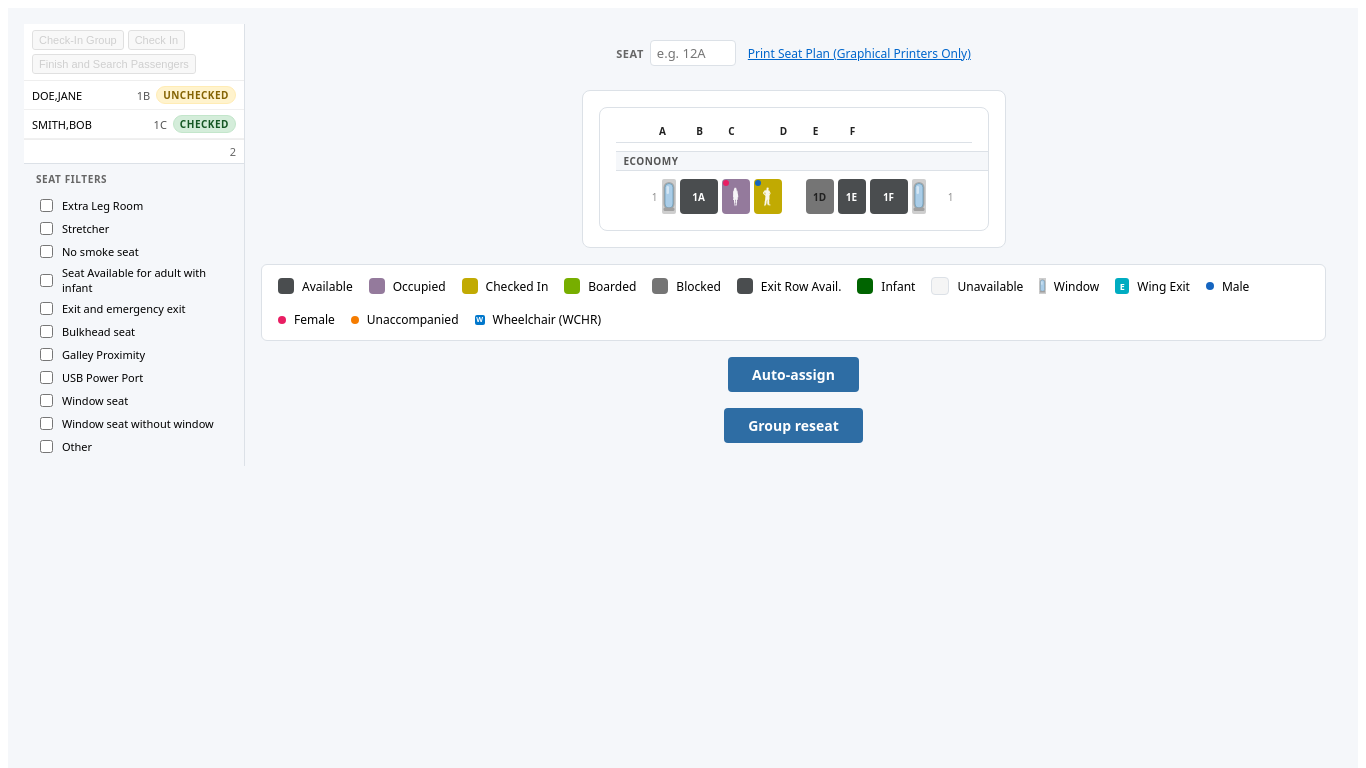
it: SeatPlanTab — reseat flow › clicking Reseat enters reseat mode and shows banner with passenger name
Click the button named "1B".
click(736, 196)  # box [722, 179, 750, 214]
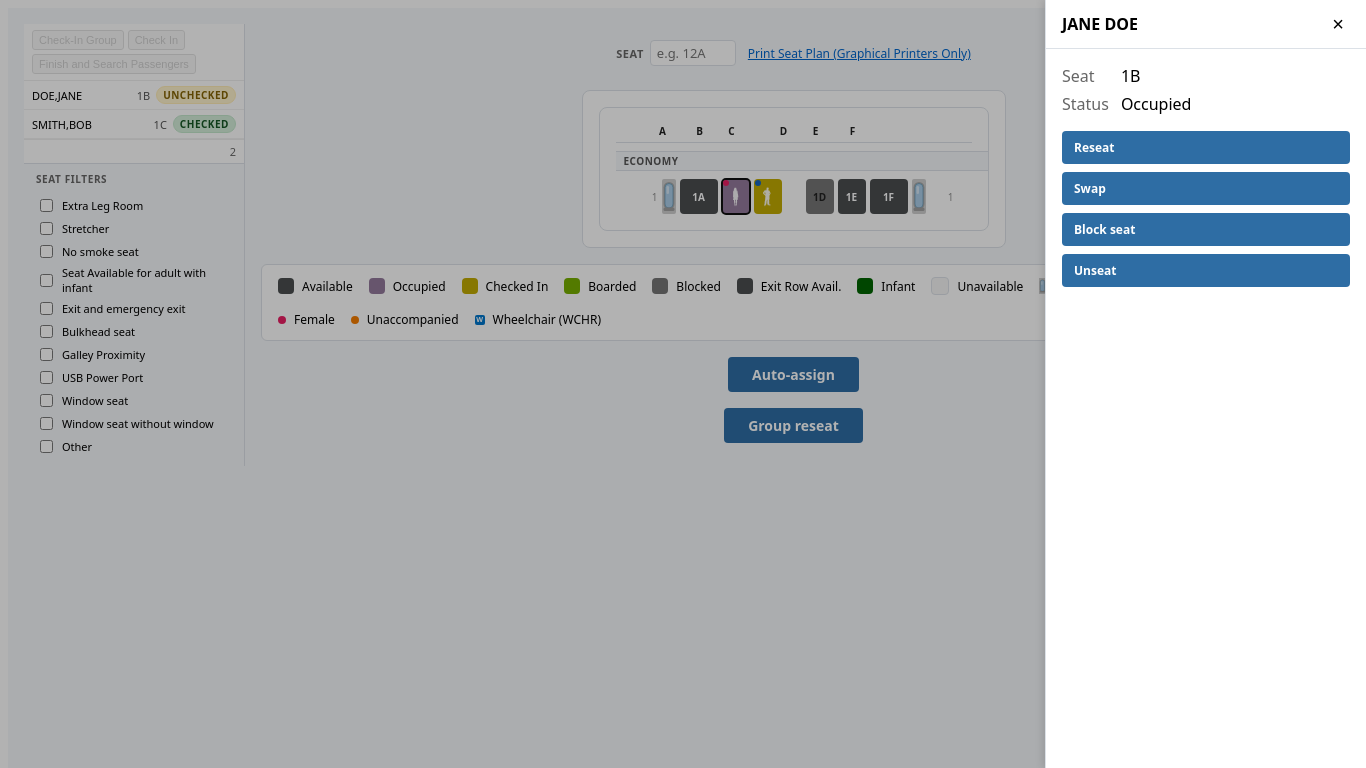
Click the button "Reseat".
click(1094, 148)  # box [1062, 131, 1350, 164]
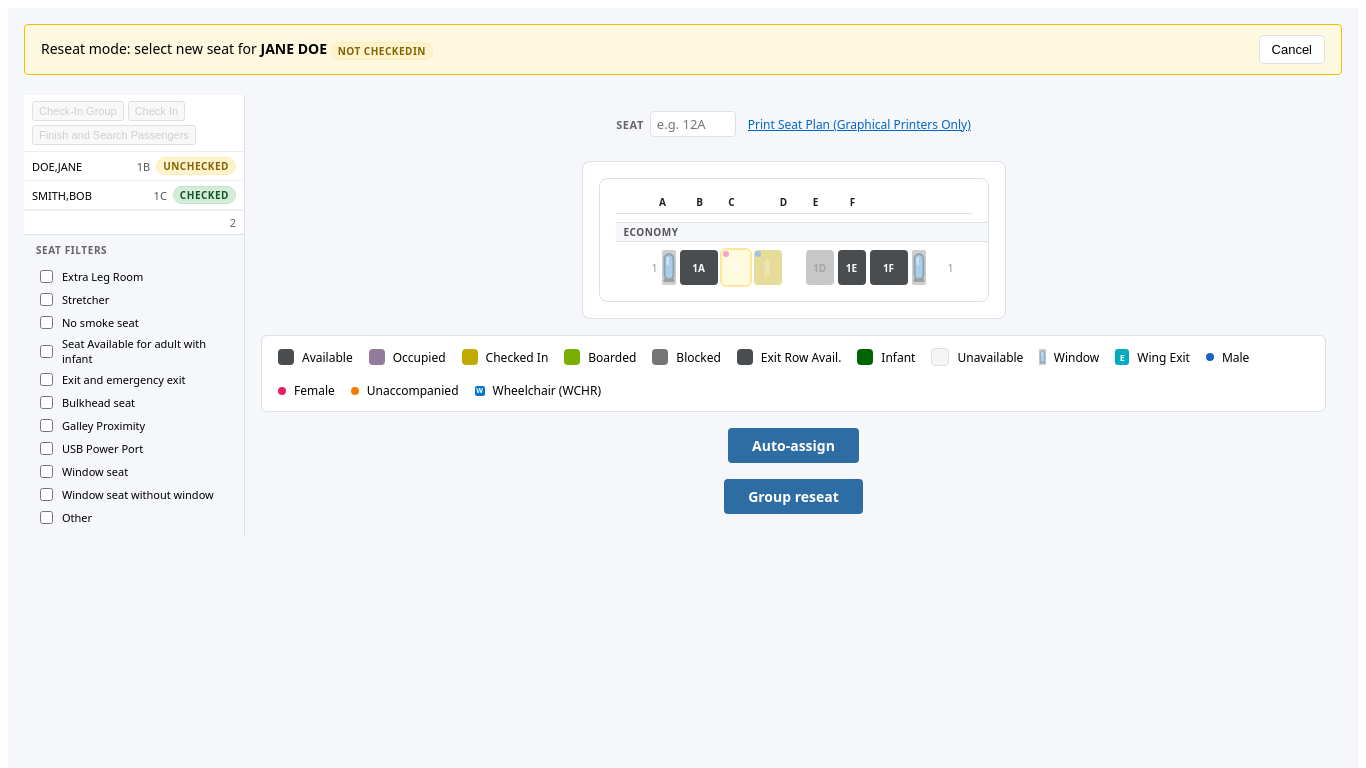
Check: the text "JANE DOE" is shown, box [260, 39, 327, 58]
Check: the message "Reseat mode: select new seat for JANE DOE NOT CHECKEDIN Cancel" is shown, box [24, 24, 1342, 75]
